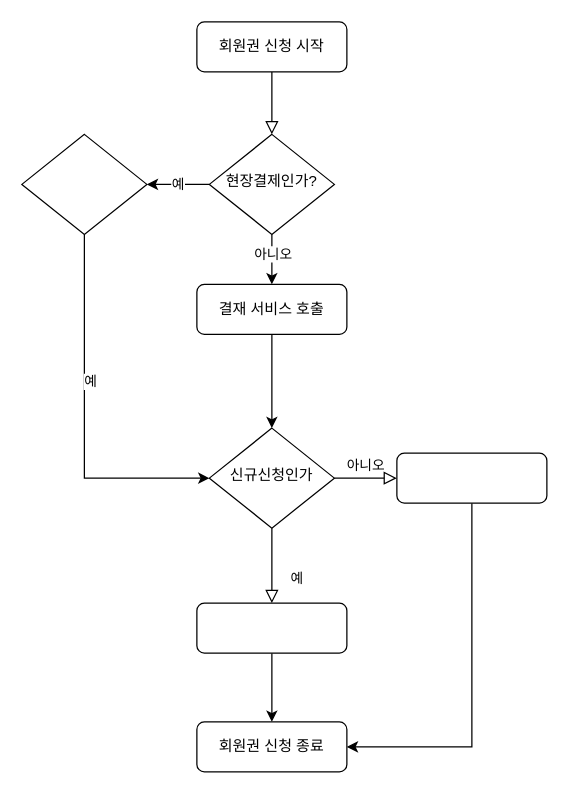
Some shapes in this 569 by 794 pixel diagram are drawn without their labels. Here are the shapes that lost their labels. From the top down, the box of each, then its label:
(21, 133, 147, 234): 지점담당자의 승인이 이뤄졌는가?
(396, 452, 547, 503): 적용시작일 : 미사용 회원권의 max(종료일) +1 일
(196, 602, 347, 653): 적용 시작일 : 현재일자
